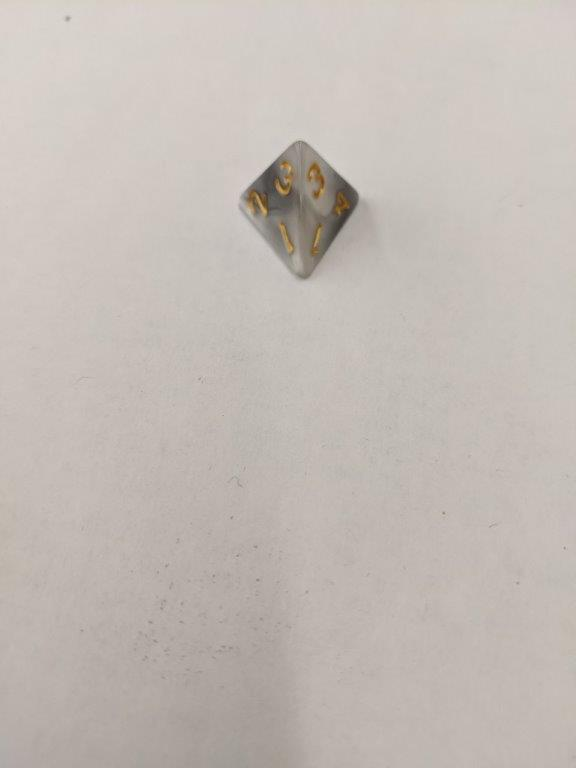d4-3: (233, 135, 364, 282)
